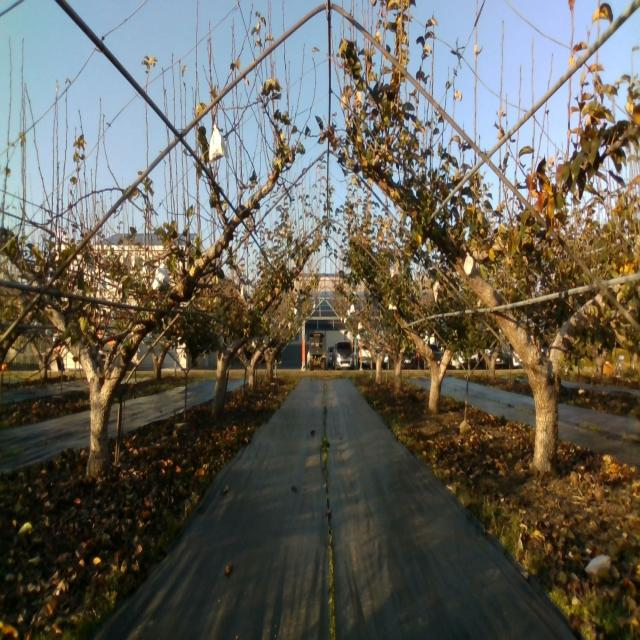pearbags: (209, 124, 225, 160), (152, 263, 170, 290), (464, 252, 477, 282)
